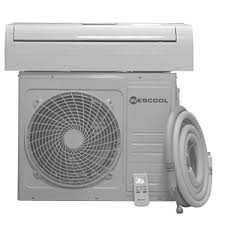ac: (3, 20, 199, 75)
